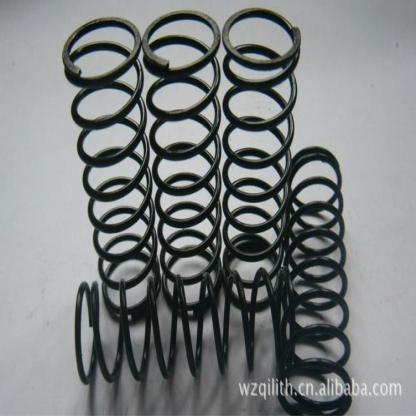FOD: (60, 12, 162, 322), (72, 262, 295, 390), (219, 6, 302, 314), (142, 6, 222, 316), (279, 142, 353, 415)
